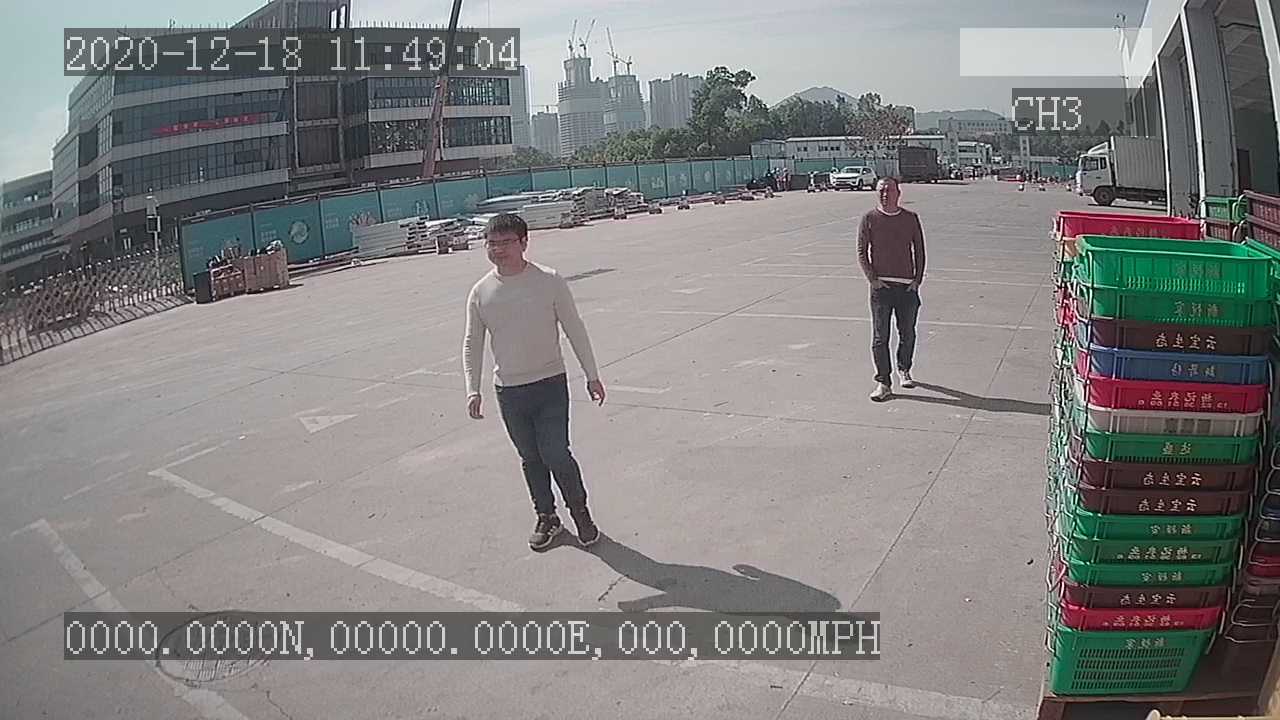person: (459, 206, 608, 554), (852, 172, 927, 408)
